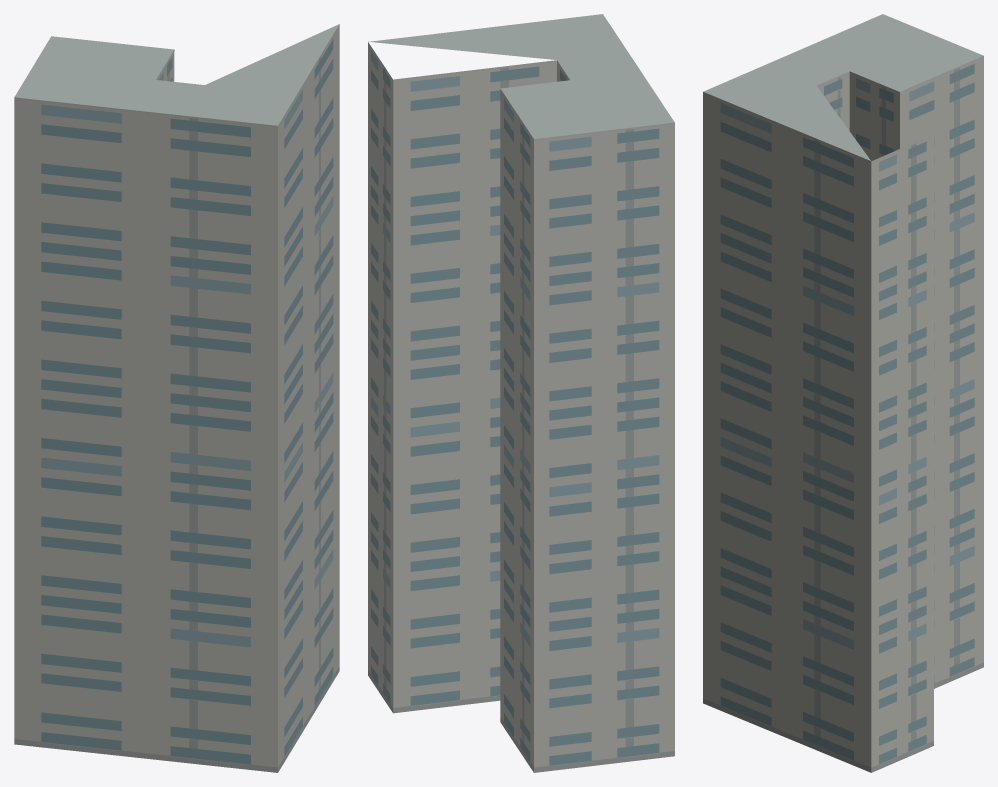
File: residential-36c768c1-71c0-44c7-aa07-566fa9ca2b87.glb
3 renders of one model, left to right at view 1: azimuth 30°, elevation 25°; view 2: azimuth 150°, elevation 25°; view 3: azimuth 270°, elevation 25°, orthographic. The views are drawn at different scales.
Parts seen in each view (by area): view 1: residential-36c768c1-71c0-44c7-aa07-566fa9ca2b87.tmp; view 2: residential-36c768c1-71c0-44c7-aa07-566fa9ca2b87.tmp; view 3: residential-36c768c1-71c0-44c7-aa07-566fa9ca2b87.tmp.
Part boxes in pixels (x1,y1,x2,y2): residential-36c768c1-71c0-44c7-aa07-566fa9ca2b87.tmp: [14, 24, 339, 772]; residential-36c768c1-71c0-44c7-aa07-566fa9ca2b87.tmp: [368, 14, 674, 772]; residential-36c768c1-71c0-44c7-aa07-566fa9ca2b87.tmp: [703, 14, 983, 772].
Size of the model in its own units: 48.55 by 94 by 39.12.
